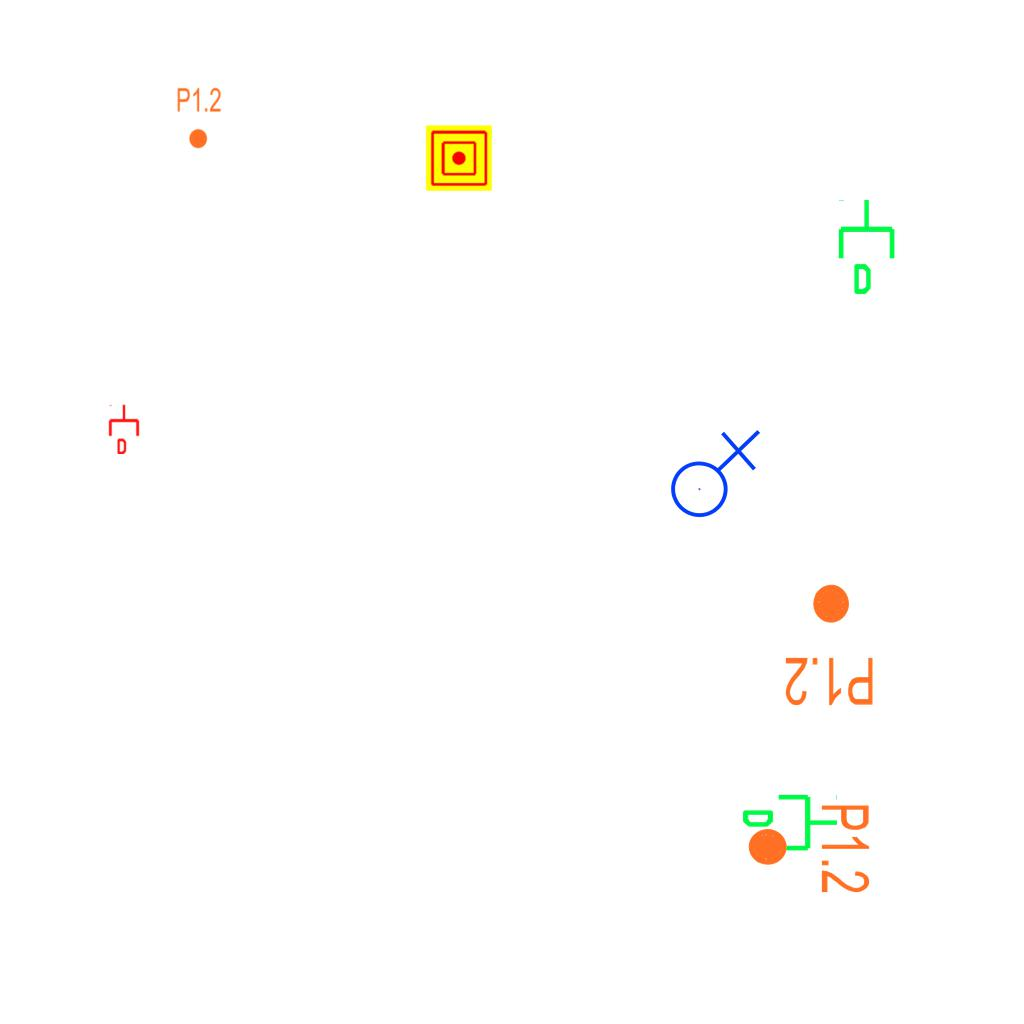Datenanschluss_einfach: (834, 197, 903, 297), (740, 790, 840, 859), (107, 404, 141, 454)
Downlight_LED_Einbauleuchten_Flur: (783, 581, 876, 709), (745, 802, 873, 895), (176, 86, 222, 150)
Elektroanschluss_allgemein_230V_Geraeteanschlussdose_230V: (662, 425, 761, 519)
NAM-Nichtautomatischer_Melder: (426, 125, 492, 191)
